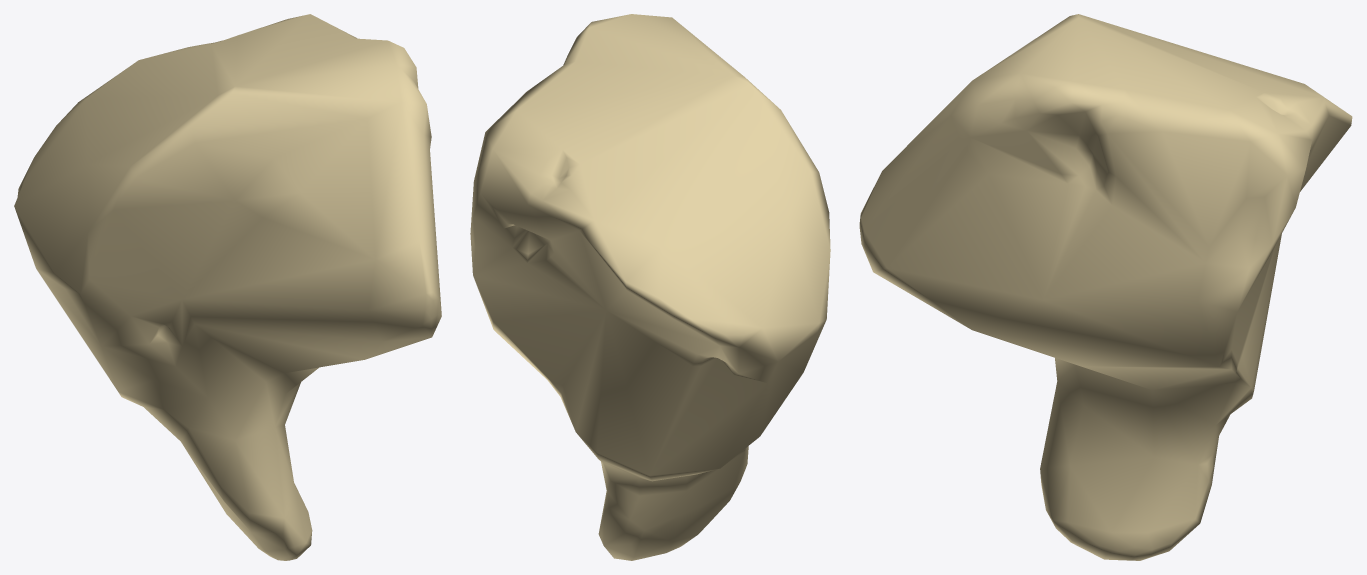
3 views of the same model, side by side, from view 1: azimuth 30°, elevation 25°; view 2: azimuth 150°, elevation 25°; view 3: azimuth 270°, elevation 25° (orthographic). The views are drawn at different scales.
Visible parts, largest first — view 1: 左侧钩骨; view 2: 左侧钩骨; view 3: 左侧钩骨.
Boxes of the visible parts, bbox=[...] form: 左侧钩骨: bbox=[14, 14, 441, 560]; 左侧钩骨: bbox=[470, 14, 830, 560]; 左侧钩骨: bbox=[859, 14, 1352, 560].
Bounding box in the file's own units: 0.0237 × 0.0345 × 0.0298.
